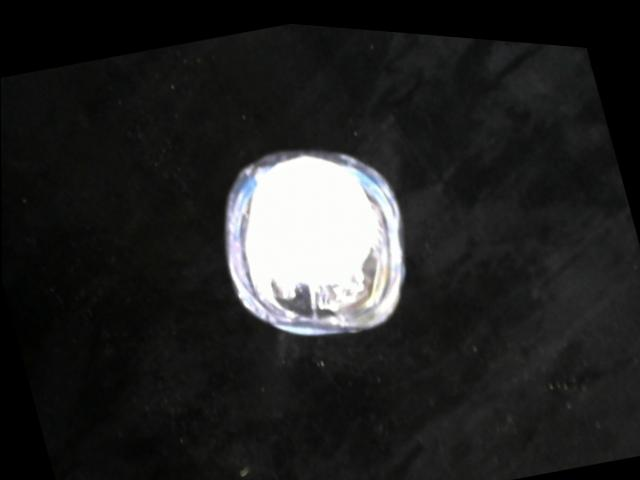bottle: (199, 111, 432, 362)
